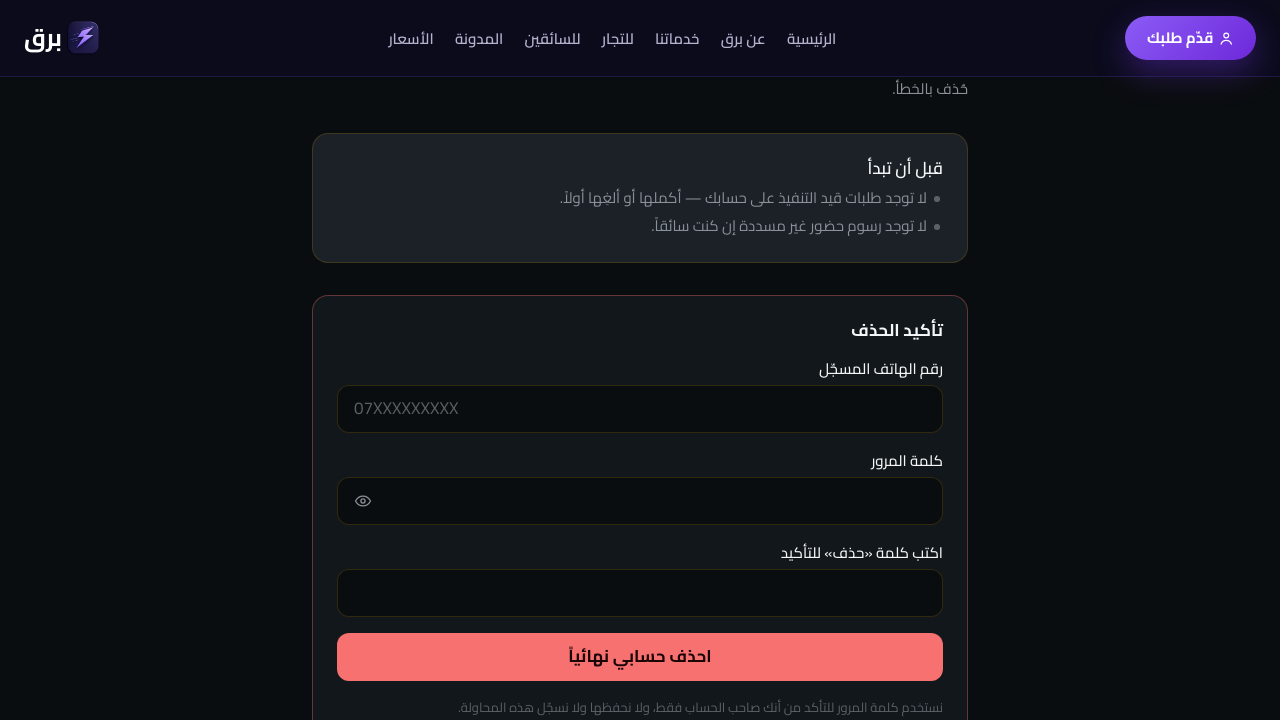
it: the deletion page › explains an active-orders refusal instead of showing a generic failure
The width and height of the screenshot is (1280, 720).
(page scrolled)
Type "07712345678" into the field labelled "رقم الهاتف المسجّل" at (640, 409), box x1=337 y1=385 x2=943 y2=433
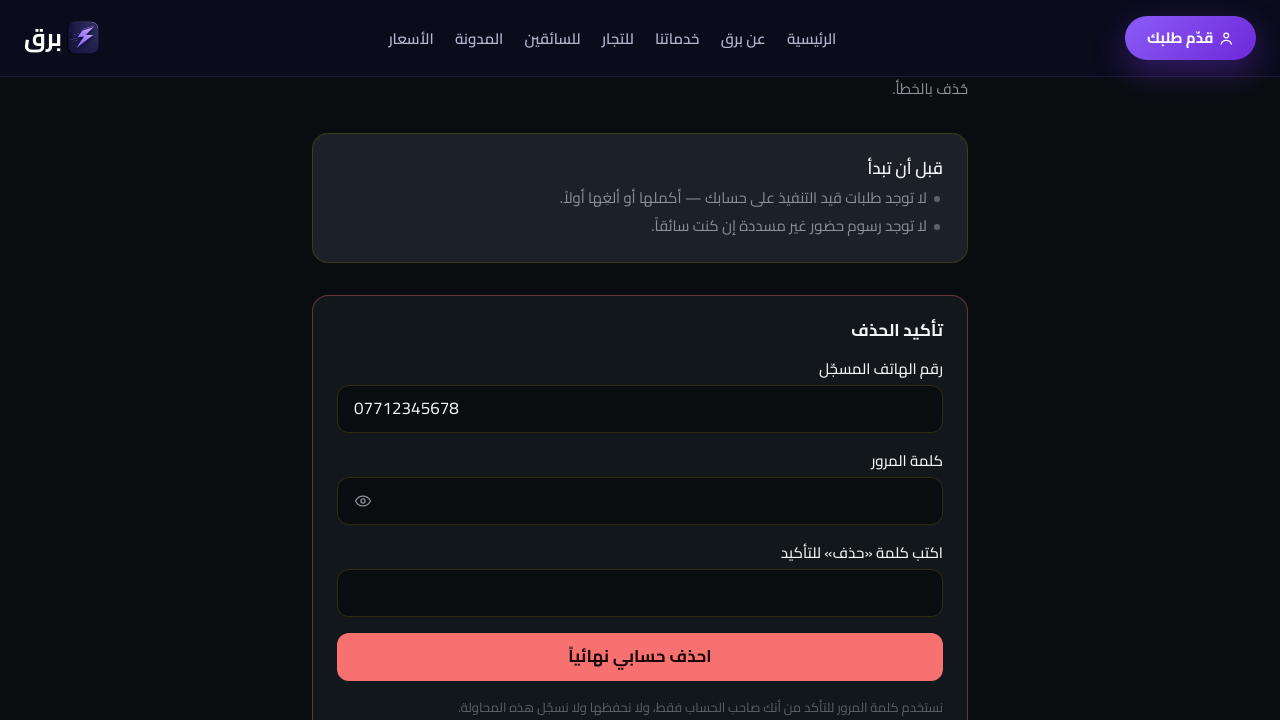
Type "secret123" into the password field labelled "كلمة المرور" at (640, 501), box x1=337 y1=477 x2=943 y2=525
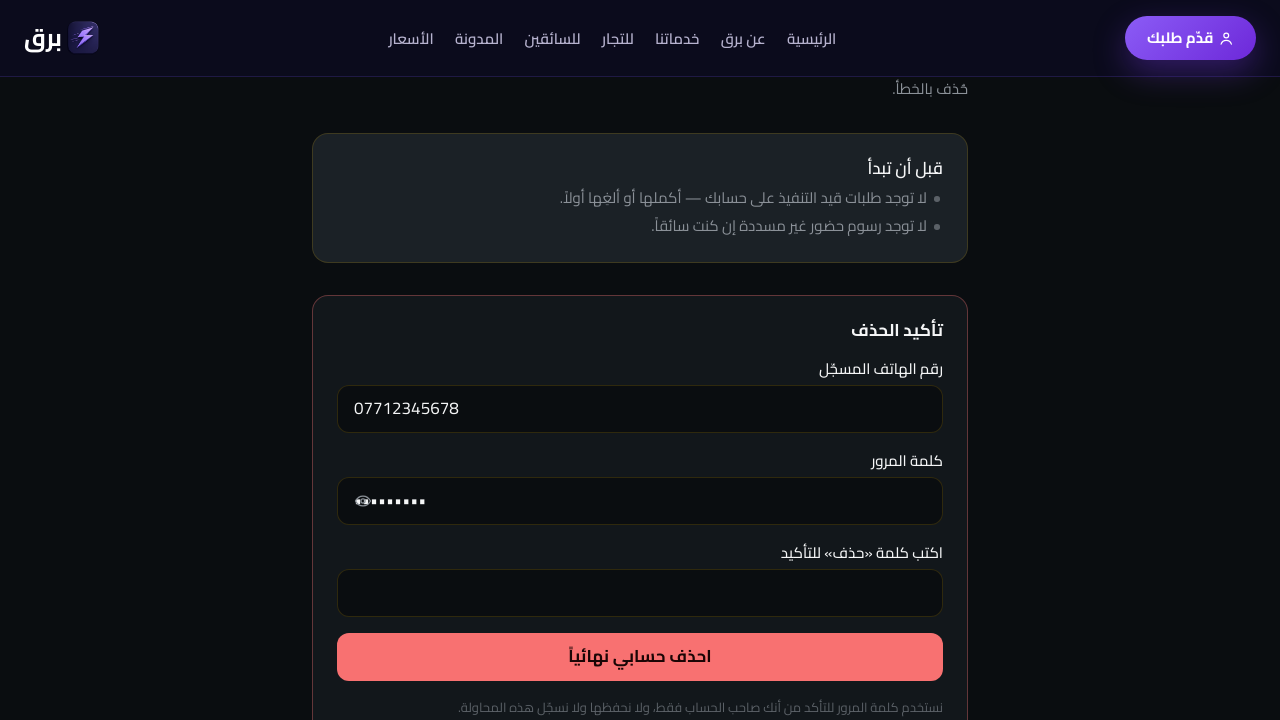
Type "حذف" into the field labelled "اكتب كلمة «حذف» للتأكيد" at (640, 593), box x1=337 y1=569 x2=943 y2=617
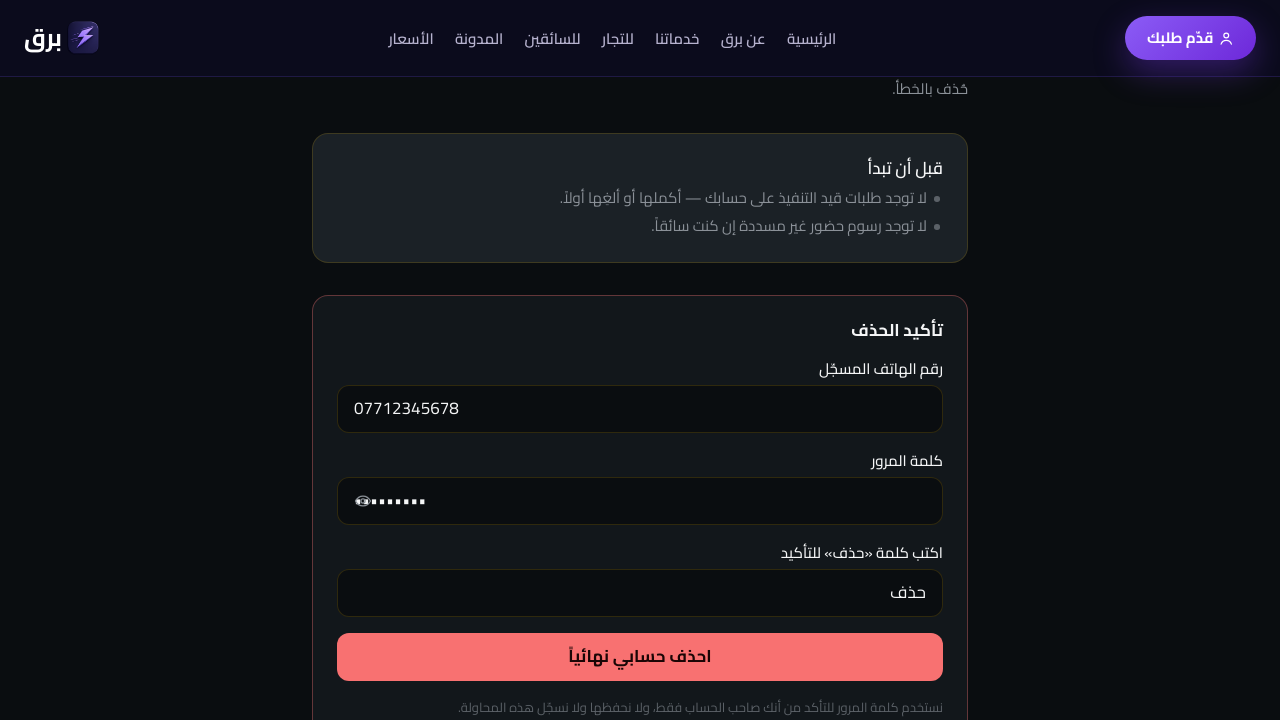
Click the button "احذف حسابي نهائياً" at (640, 657), box x1=337 y1=633 x2=943 y2=681
(page scrolled)
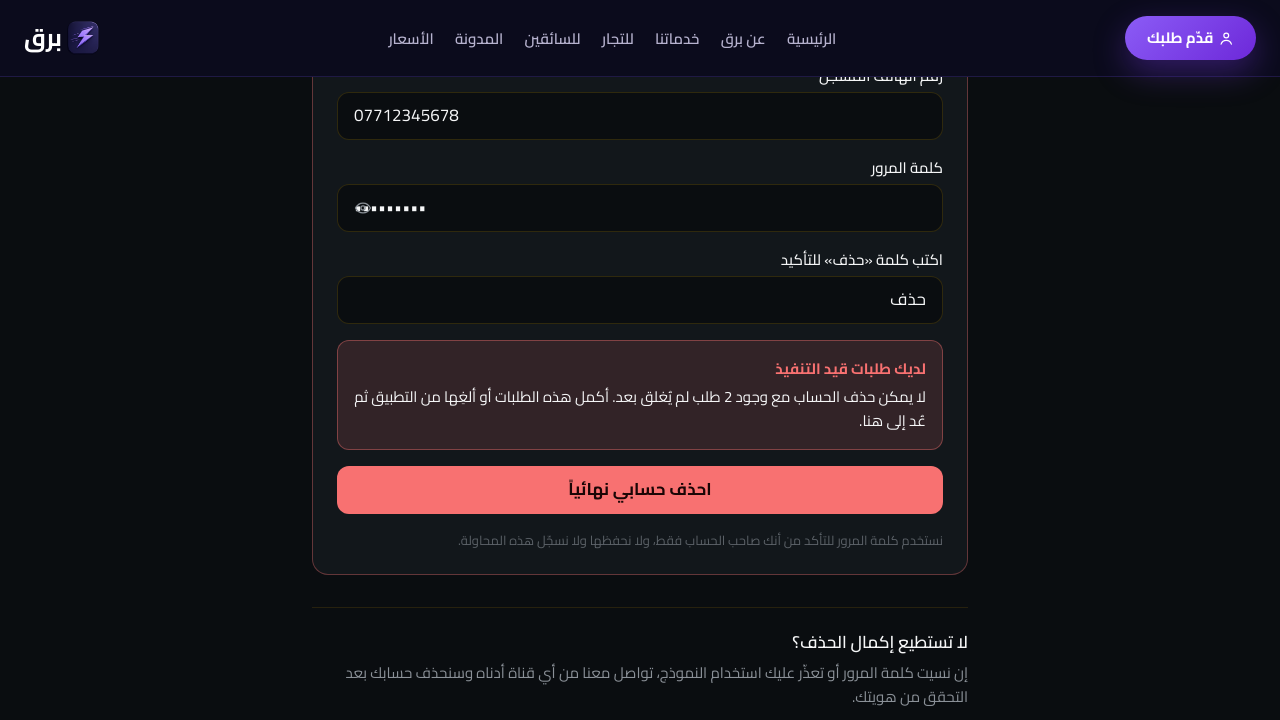
Now the text "لديك طلبات قيد التنفيذ" is shown, box x1=775 y1=354 x2=926 y2=383
Now the text "2 طلب" is shown, box x1=354 y1=382 x2=926 y2=435
